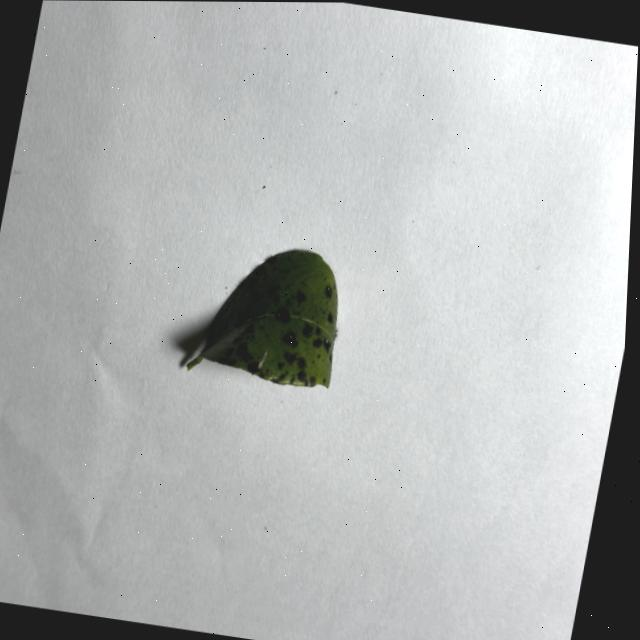sooty_mold: (187, 251, 336, 387)
